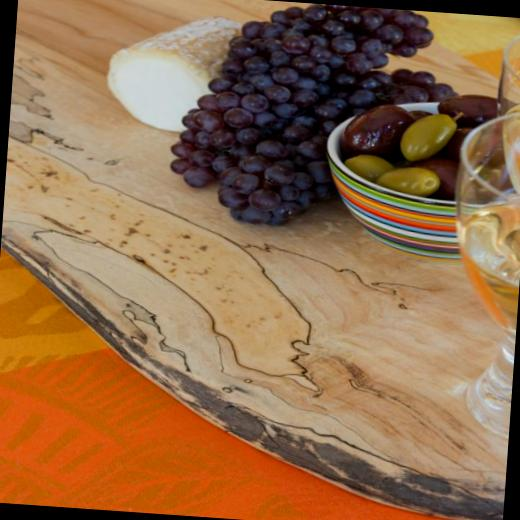Orange: (162, 0, 458, 236), (338, 85, 500, 203)
